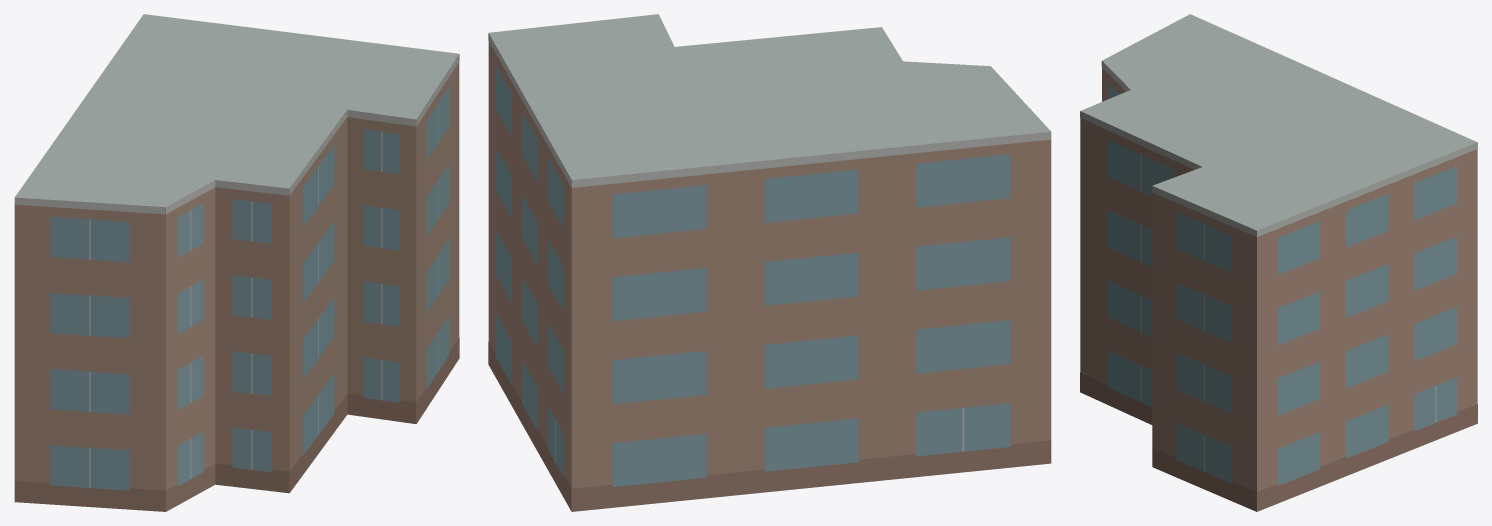
Rendered from survey-upis-32563180.glb.
3 renders of one model, left to right at view 1: azimuth 30°, elevation 25°; view 2: azimuth 150°, elevation 25°; view 3: azimuth 270°, elevation 25°, orthographic. The views are drawn at different scales.
Parts seen in each view (by area): view 1: survey-upis-32563180.tmp; view 2: survey-upis-32563180.tmp; view 3: survey-upis-32563180.tmp.
Part boxes in pixels (bbox=[...]): survey-upis-32563180.tmp: bbox=[14, 14, 459, 511]; survey-upis-32563180.tmp: bbox=[488, 14, 1051, 511]; survey-upis-32563180.tmp: bbox=[1080, 14, 1477, 511].
Size of the model in its own units: 17.09 by 10.34 by 13.26.
